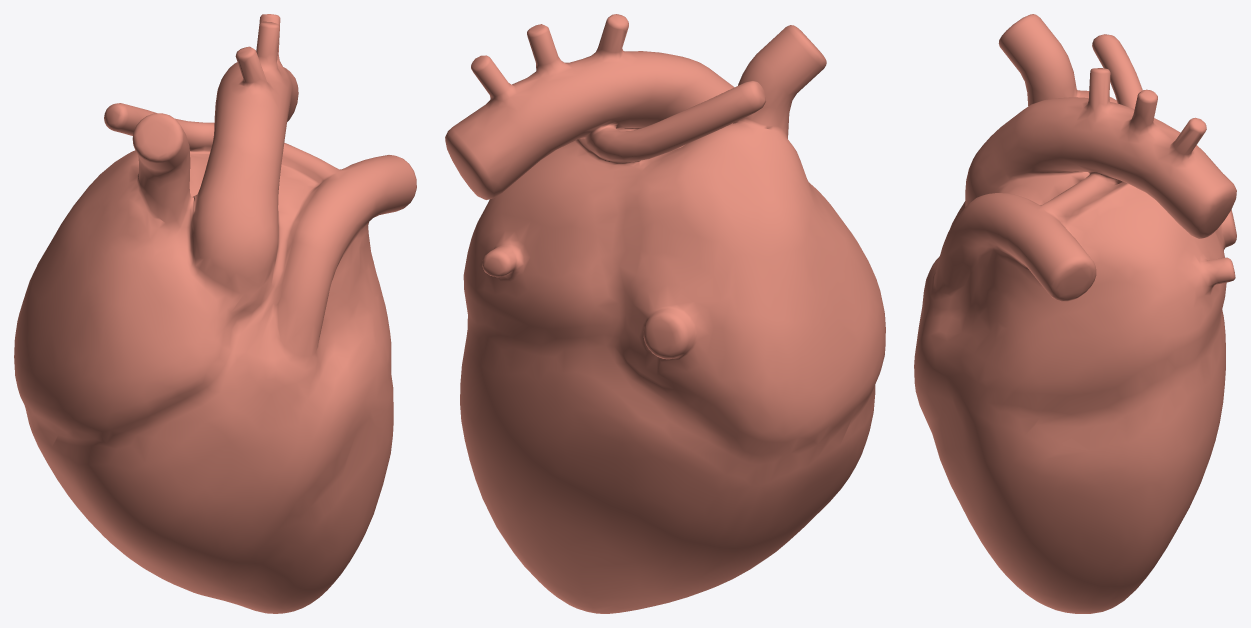
The model's file is heart.glb.
3 renders of one model, left to right at view 1: azimuth 30°, elevation 25°; view 2: azimuth 150°, elevation 25°; view 3: azimuth 270°, elevation 25°, orthographic. The views are drawn at different scales.
Visible parts, largest first — view 1: hear; view 2: hear; view 3: hear.
Boxes of the visible parts, x1,y1,x2,y2 form: hear: (14,14,416,613); hear: (445,14,885,613); hear: (914,14,1236,613).
Bounding box in the file's own units: 6.22 × 9.19 × 5.05.
